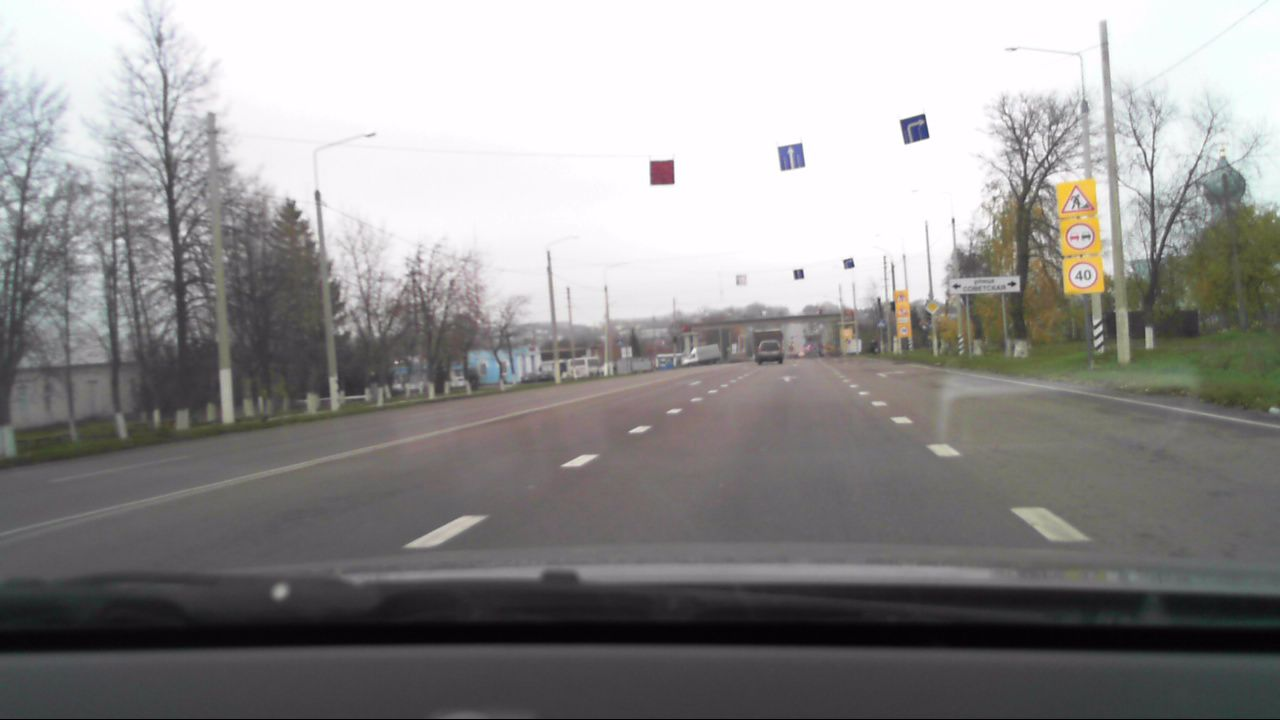speed_warning_40: (1064, 256, 1102, 291)
